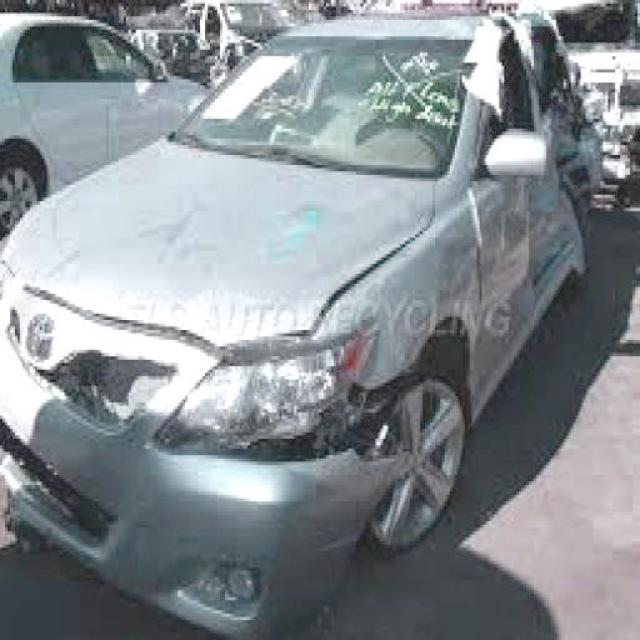car damage: (30, 203, 442, 362), (144, 354, 419, 555), (8, 309, 185, 441)
